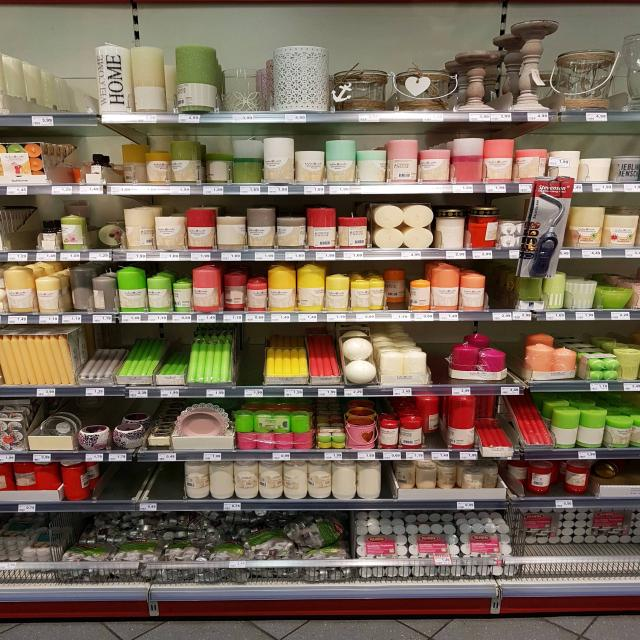unorganised: (524, 512, 640, 556), (236, 515, 348, 550), (522, 458, 594, 496), (131, 44, 167, 111), (331, 460, 383, 501), (230, 140, 264, 184), (56, 459, 89, 504), (454, 135, 483, 184), (66, 264, 95, 313), (467, 205, 497, 250), (356, 147, 388, 186), (205, 136, 232, 182), (437, 207, 464, 251), (214, 215, 245, 251), (121, 142, 148, 182), (222, 270, 248, 311), (422, 398, 444, 446), (207, 461, 233, 501), (95, 219, 126, 250), (30, 462, 59, 492), (386, 269, 406, 308), (416, 461, 439, 491), (437, 461, 457, 492), (397, 464, 418, 492)
